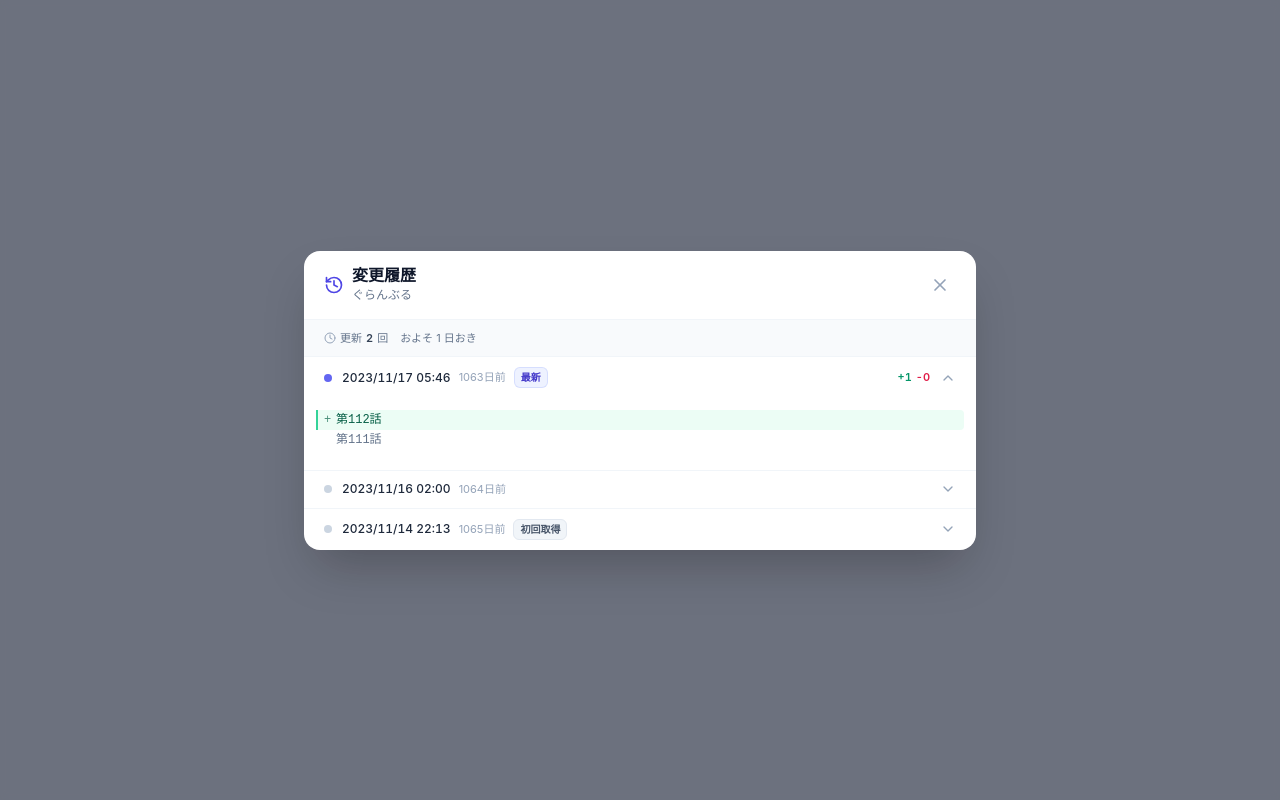
Test case: HistoryModal › shows the first fetched content instead of a diff for the initial snapshot
Expected: the text "第112話" is shown, [336,413,382,427]
Click the button "2023/11/14 22:13 1065日前 初回取得": (396,528) [304,508,976,550]
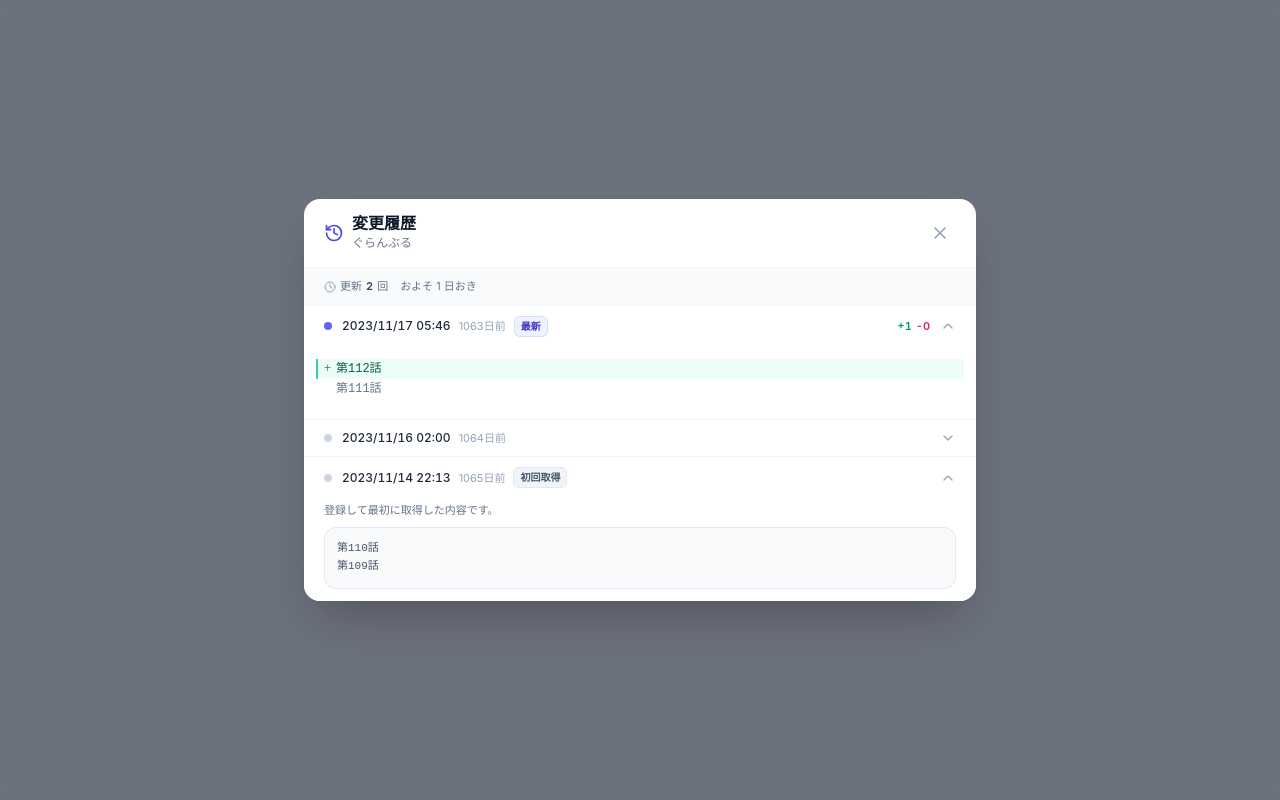
Expected: the text "登録して最初に取得した内容です。" is shown, [324,503,499,517]
Expected: the text "第110話 第109話" is shown, [324,527,956,589]
